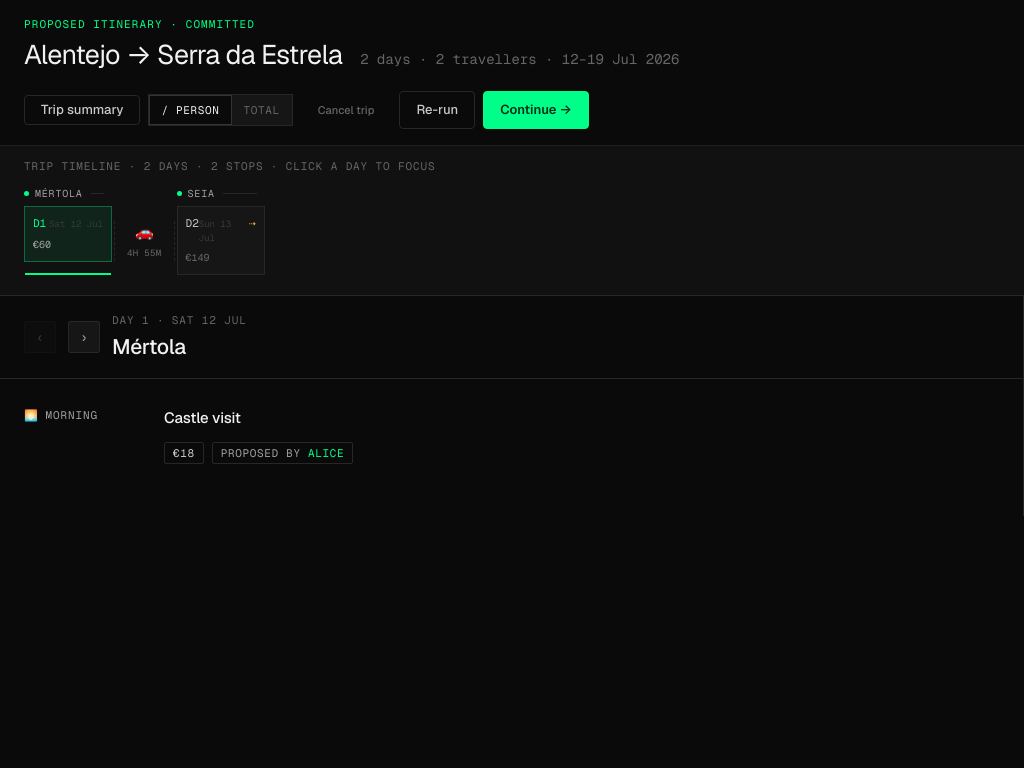
ItineraryStep › toggling pp/total recomputes the rail cost, price hero, category amounts and the transit price pill together
Click the button "total": [262, 110] box 232,94 -> 292,125
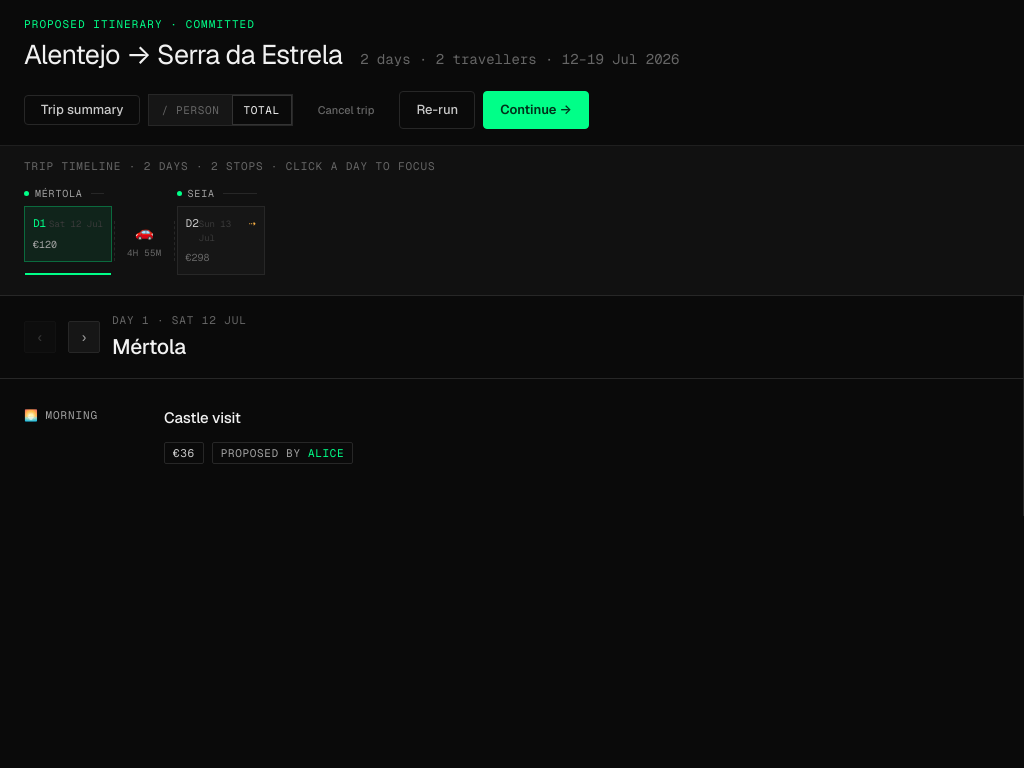
Click the element with test id "day-cell" showing "D2 Sun 13 Jul €298": [221, 240] box 177,206 -> 265,275
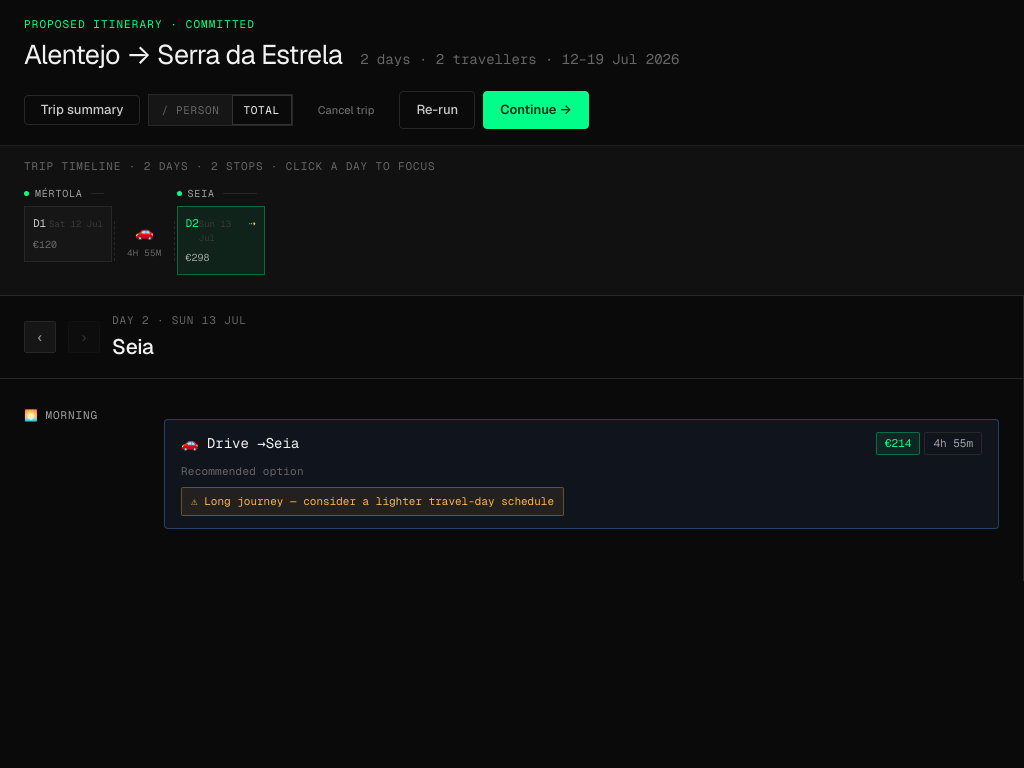
Expected: the text with test id "transit-price" reads "€214", 885,436 -> 911,450
